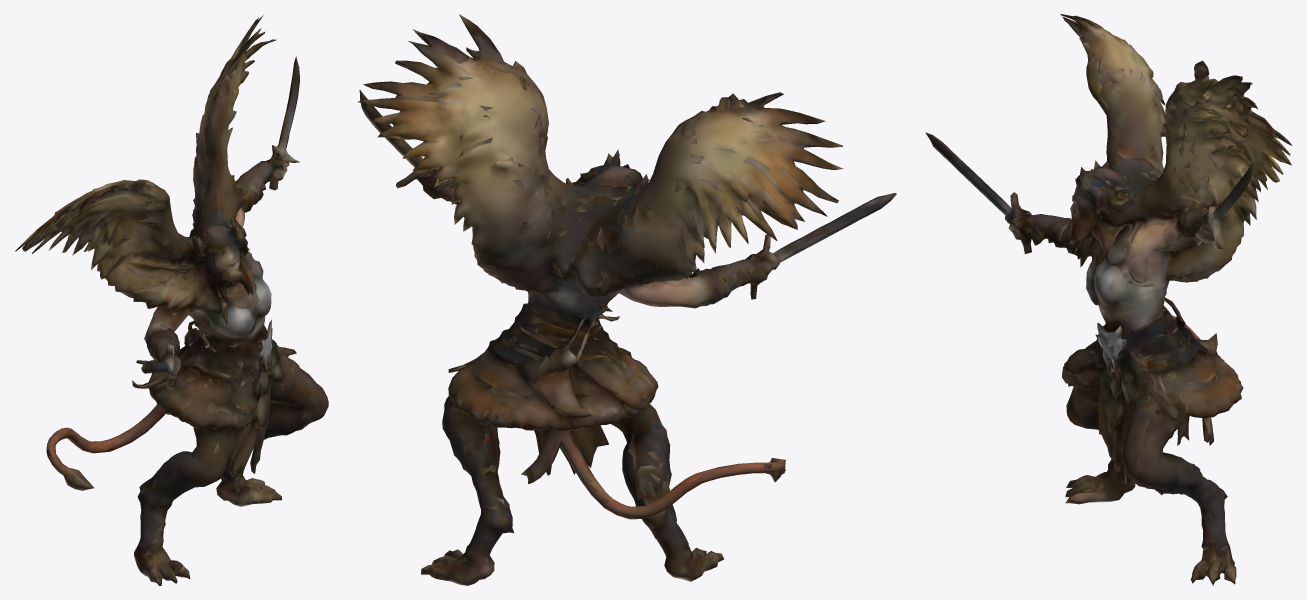
File: Maftet (T)_final.glb
3 renders of one model, left to right at view 1: azimuth 30°, elevation 25°; view 2: azimuth 150°, elevation 25°; view 3: azimuth 270°, elevation 25°, orthographic. The views are drawn at different scales.
Parts seen in each view (by area): view 1: Mesh_0; view 2: Mesh_0; view 3: Mesh_0.
Boxes of the visible parts, x1=… form: Mesh_0: x1=15, y1=15, x2=328, y2=585; Mesh_0: x1=357, y1=14, x2=896, y2=585; Mesh_0: x1=925, y1=14, x2=1292, y2=585.
Bounding box in the file's own units: 1.51 × 2 × 1.28.
Materials: 1 (1 with a texture image).
